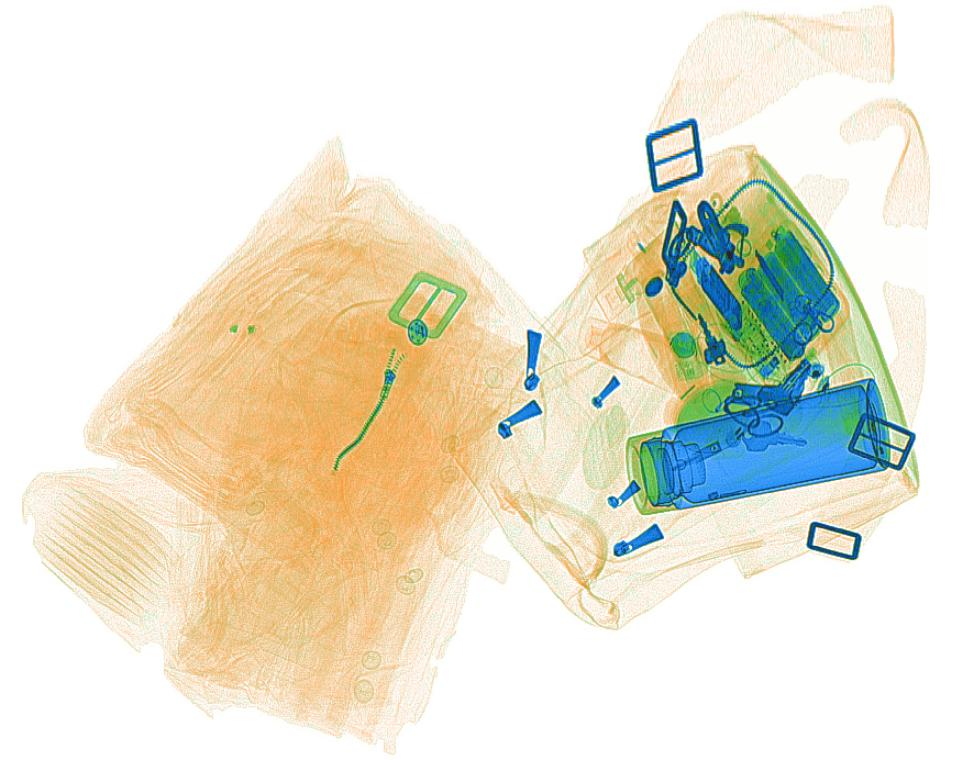USBFlashDisk: (690, 252, 745, 330)
battery: (729, 211, 852, 366)
pressure: (594, 220, 695, 321)
